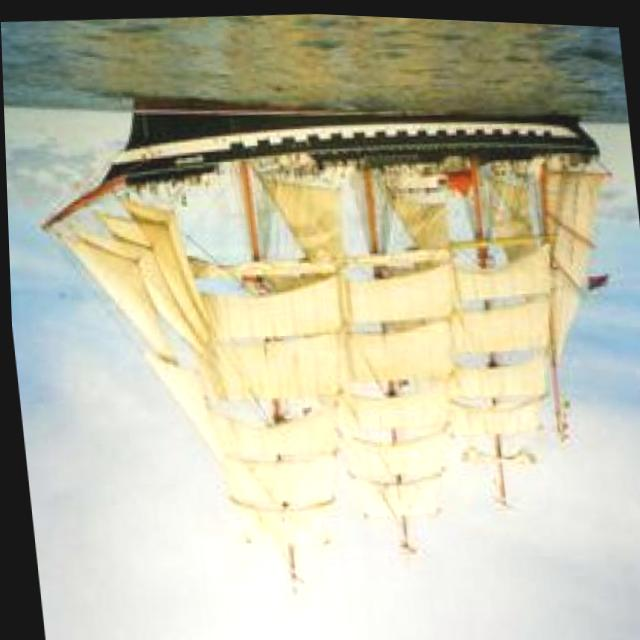ship2: (38, 96, 609, 594)
